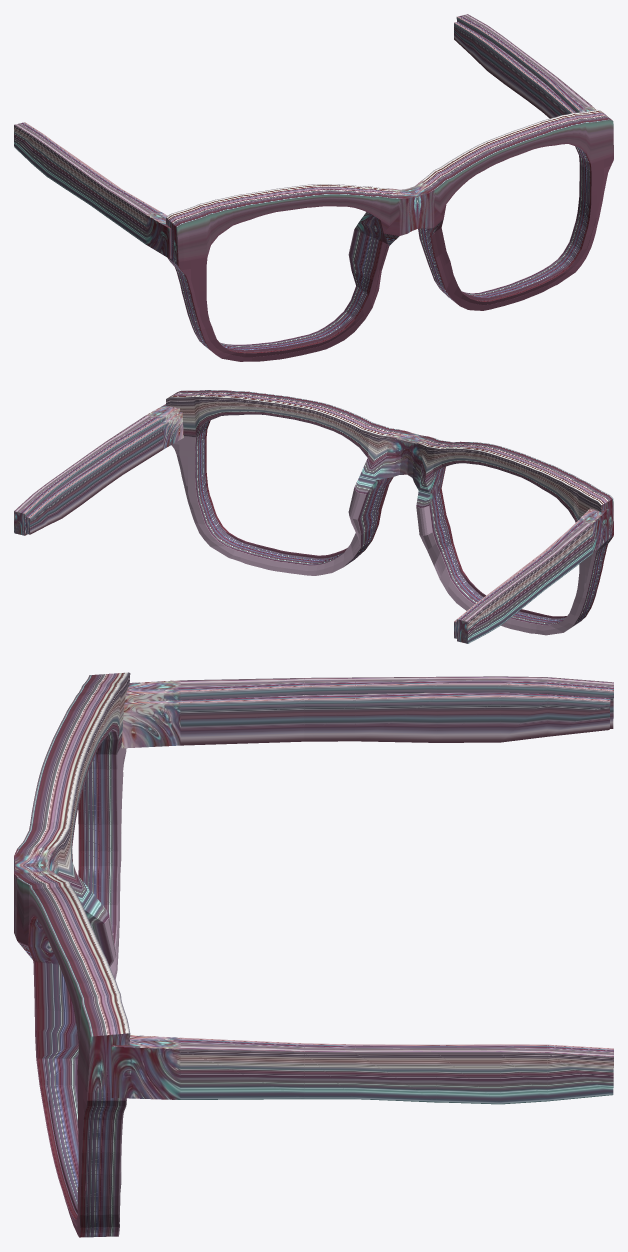
File: frame.obj
The picture shows the model from 3 angles, top to bottom: view 1: azimuth 30°, elevation 25°; view 2: azimuth 150°, elevation 25°; view 3: azimuth 270°, elevation 25°; orthographic projection. The views are drawn at different scales.
Visible parts, largest first — view 1: Cube.005; view 2: Cube.005; view 3: Cube.005.
Boxes of the visible parts, bbox=[...] form: Cube.005: bbox=[14, 14, 613, 361]; Cube.005: bbox=[14, 390, 613, 643]; Cube.005: bbox=[14, 672, 613, 1237].
Size of the model in its own units: 0.1501 by 0.0518 by 0.1011.
Materials: 1 (1 with a texture image).
